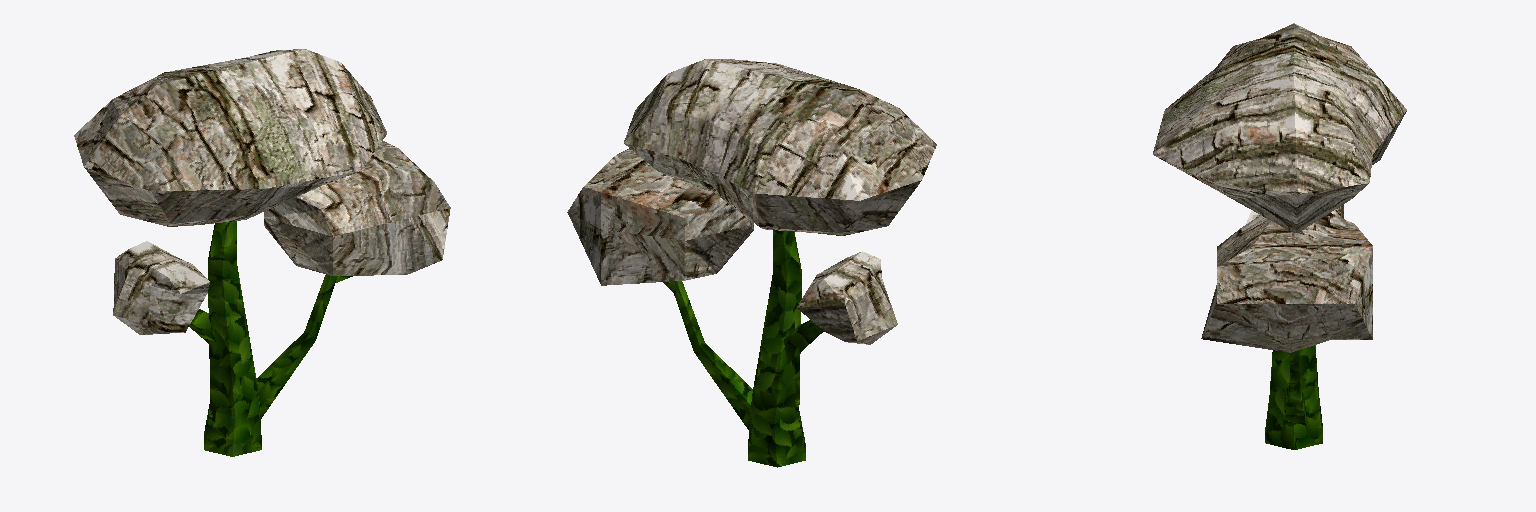
3 views of the same model, side by side, from view 1: azimuth 30°, elevation 25°; view 2: azimuth 150°, elevation 25°; view 3: azimuth 270°, elevation 25° (orthographic).
Parts seen in each view (by area): view 1: Tree_temp_climate_002_Mesh.001; view 2: Tree_temp_climate_002_Mesh.001; view 3: Tree_temp_climate_002_Mesh.001.
Part boxes in pixels (left/top/right/bottom): Tree_temp_climate_002_Mesh.001: left=74, top=49, right=450, bottom=456; Tree_temp_climate_002_Mesh.001: left=567, top=59, right=936, bottom=467; Tree_temp_climate_002_Mesh.001: left=1153, top=23, right=1406, bottom=449.
Bounding box in the file's own units: 4.06 × 4.48 × 2.75.
Materials: 1 (1 with a texture image).